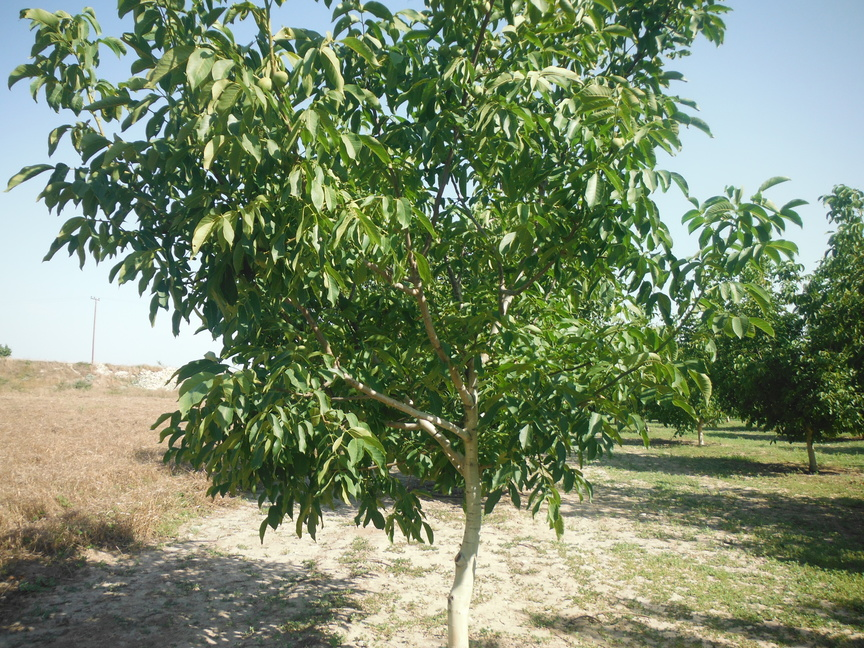walnut: (252, 188, 273, 210), (483, 42, 502, 64), (253, 75, 275, 93), (271, 68, 291, 87), (347, 198, 361, 225), (470, 80, 487, 102), (435, 41, 454, 57), (450, 42, 466, 61), (252, 248, 268, 267), (244, 364, 260, 383), (608, 135, 624, 151), (282, 339, 300, 353), (476, 0, 491, 15), (296, 343, 311, 356), (260, 258, 273, 272), (346, 403, 360, 415), (620, 133, 631, 148), (357, 407, 368, 422), (292, 350, 304, 363), (483, 359, 495, 371), (491, 357, 502, 370)
